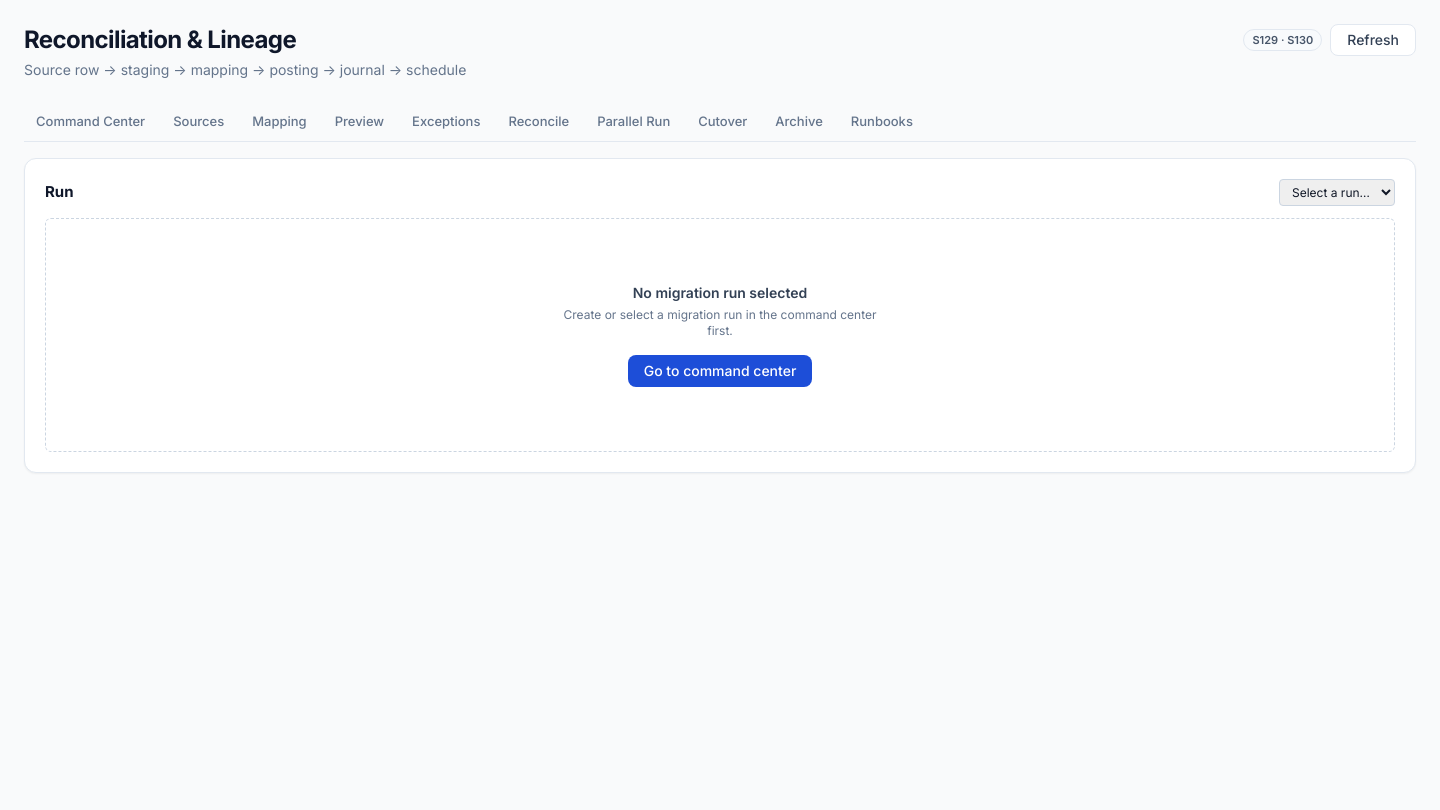
MigrationReconcile › reports a lineage API failure
Select "run-a" in the dropdown with test id "reconcile-run-select": (1337, 192) [1279,178,1395,206]
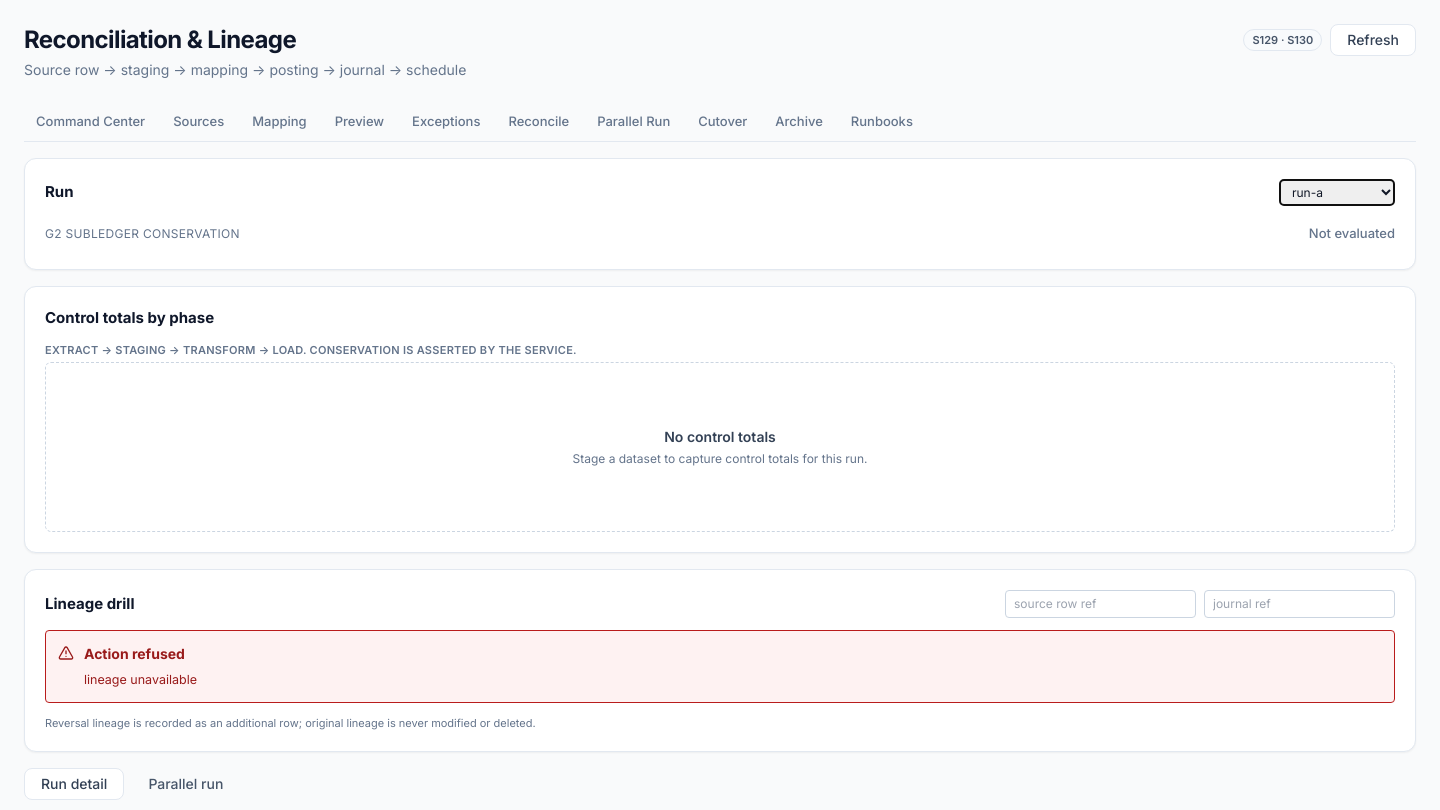
Expected: the element with test id "lineage-error" is shown, [45,630,1395,703]
